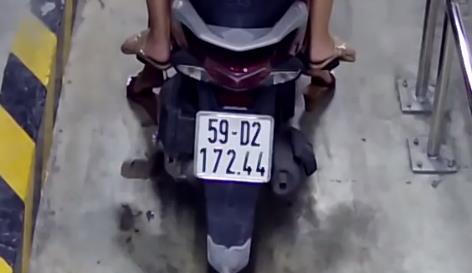lisence: (195, 111, 273, 183)
